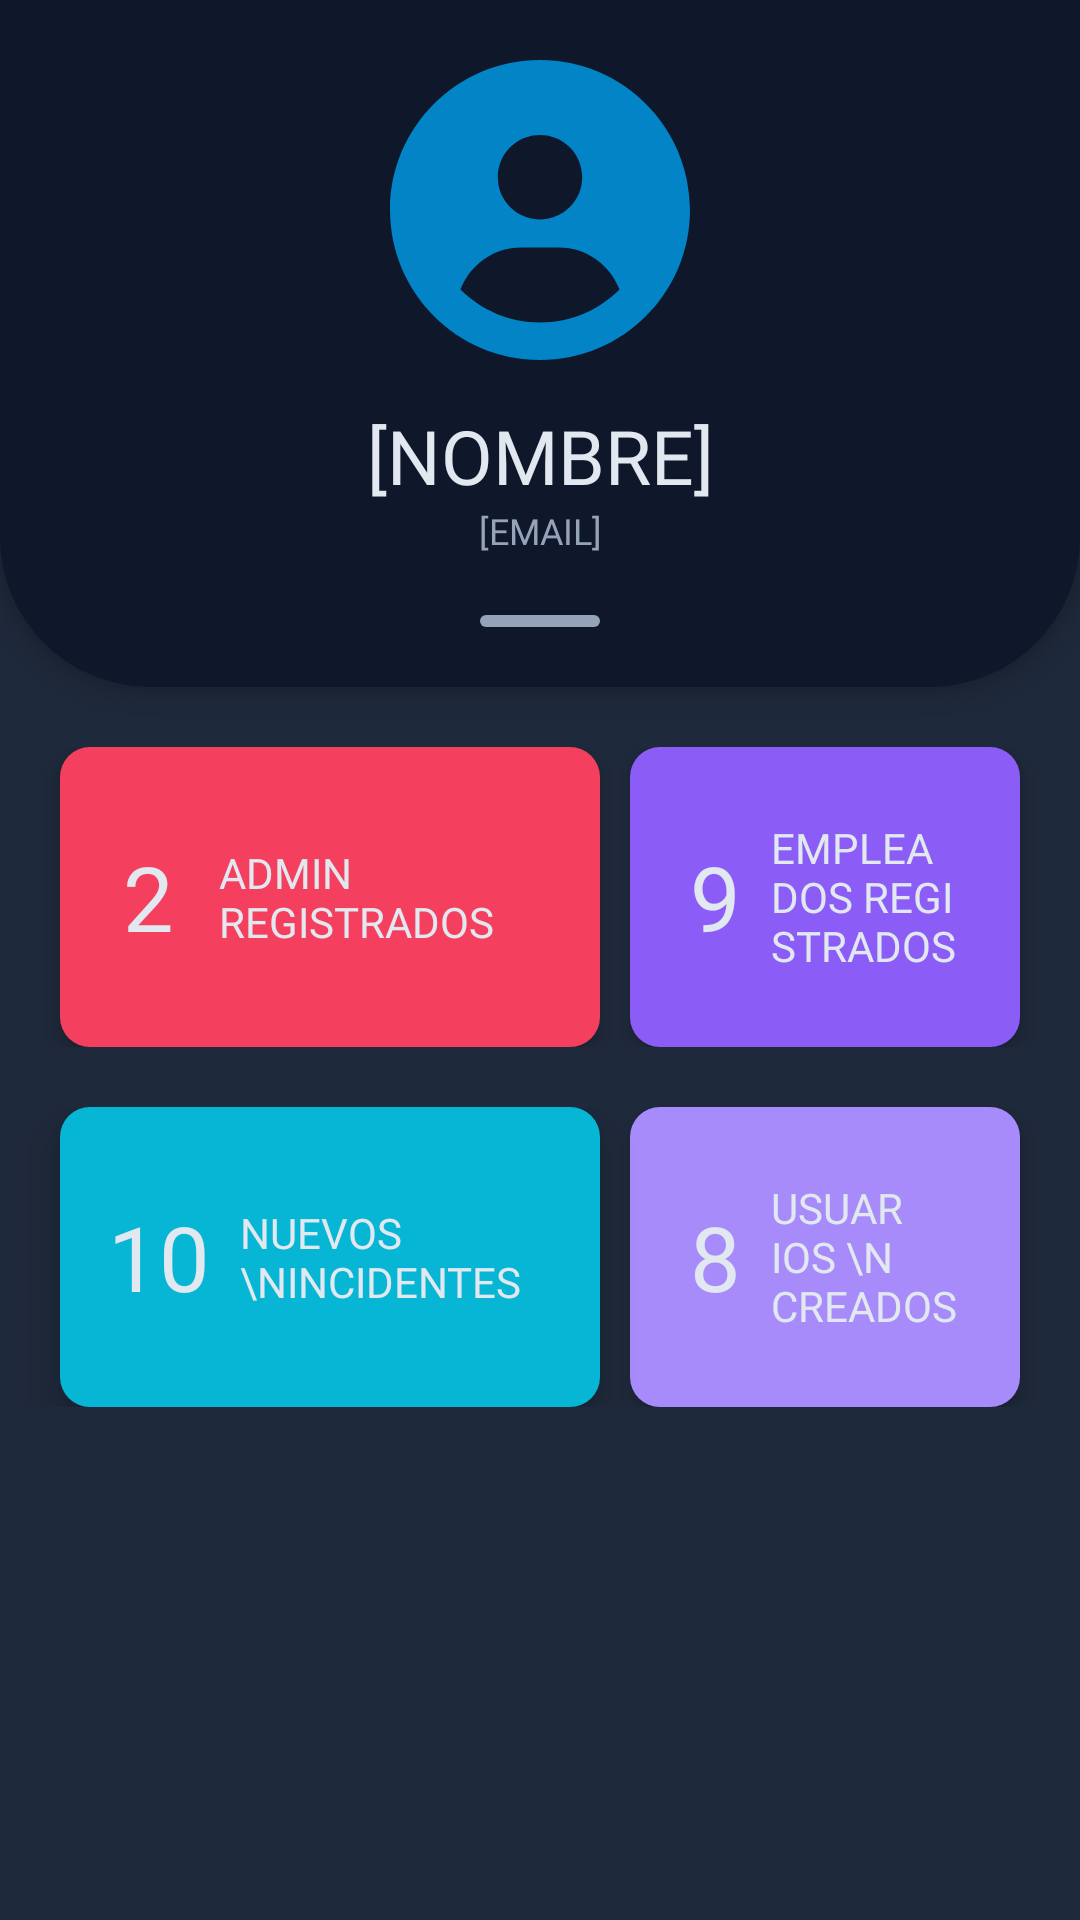

Named icons in this screenshot (1080 × 1920) and their bounding boxes, [left=x1, top=y1, right=x2, bottom=y2]:
circle user: [left=390, top=60, right=690, bottom=360]
